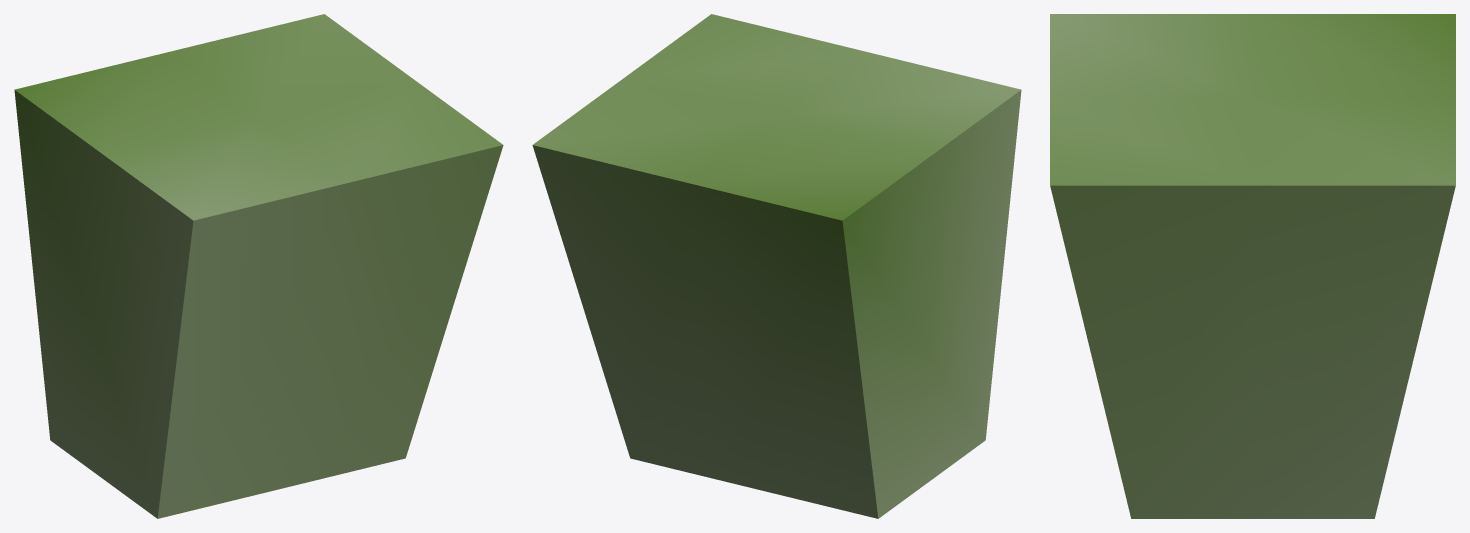
The picture shows the model from 3 angles, left to right: view 1: azimuth 30°, elevation 25°; view 2: azimuth 150°, elevation 25°; view 3: azimuth 270°, elevation 25°; orthographic projection. The views are drawn at different scales.
Visible parts, largest first — view 1: 3, 1, 4, 2; view 2: 4, 2, 3, 1; view 3: 1, 2, 3, 4.
Boxes of the visible parts, x1=… form: 3: x1=104, y1=117, x2=348, y2=518; 1: x1=259, y1=79, x2=503, y2=480; 4: x1=14, y1=52, x2=258, y2=479; 2: x1=169, y1=14, x2=413, y2=117; 4: x1=687, y1=117, x2=931, y2=518; 2: x1=532, y1=79, x2=776, y2=480; 3: x1=777, y1=52, x2=1021, y2=479; 1: x1=622, y1=14, x2=866, y2=117; 1: x1=1050, y1=99, x2=1252, y2=518; 2: x1=1253, y1=99, x2=1455, y2=518; 3: x1=1050, y1=14, x2=1252, y2=99; 4: x1=1253, y1=14, x2=1455, y2=99.
Bounding box in the file's own units: 200 × 200 × 200.
